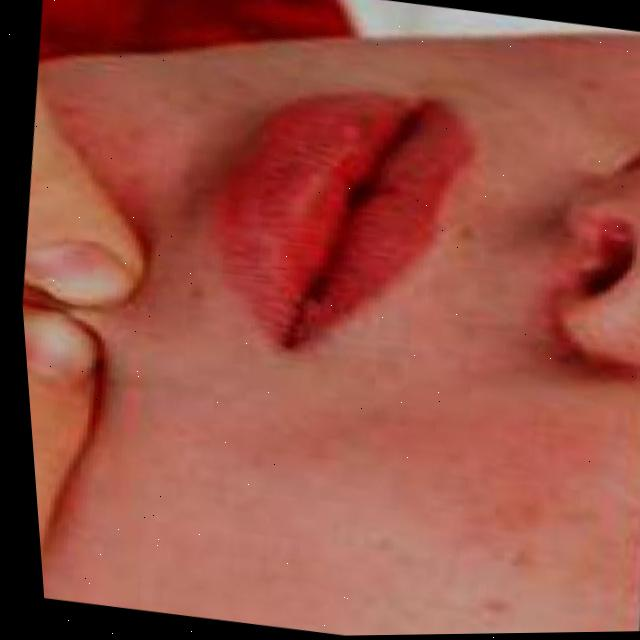Acne: (61, 305, 97, 323)
